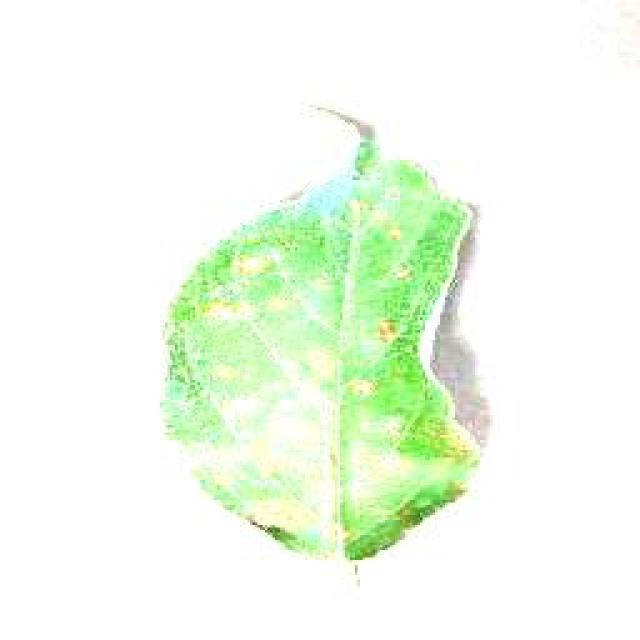apple scab disease: (158, 102, 492, 568)
